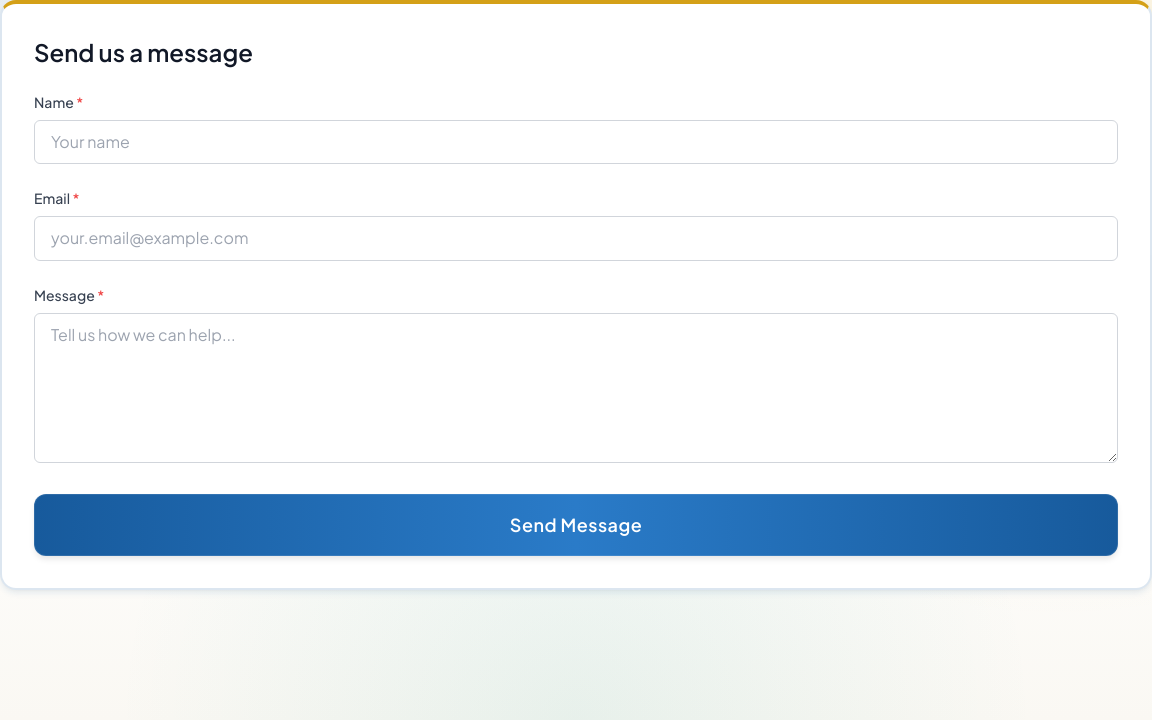
Scenario: ContactForm Component › Form Validation › should clear field error when user starts typing
This screenshot has width=1152, height=720.
Click the button "Send Message" at (576, 525), box [34,494,1118,556]
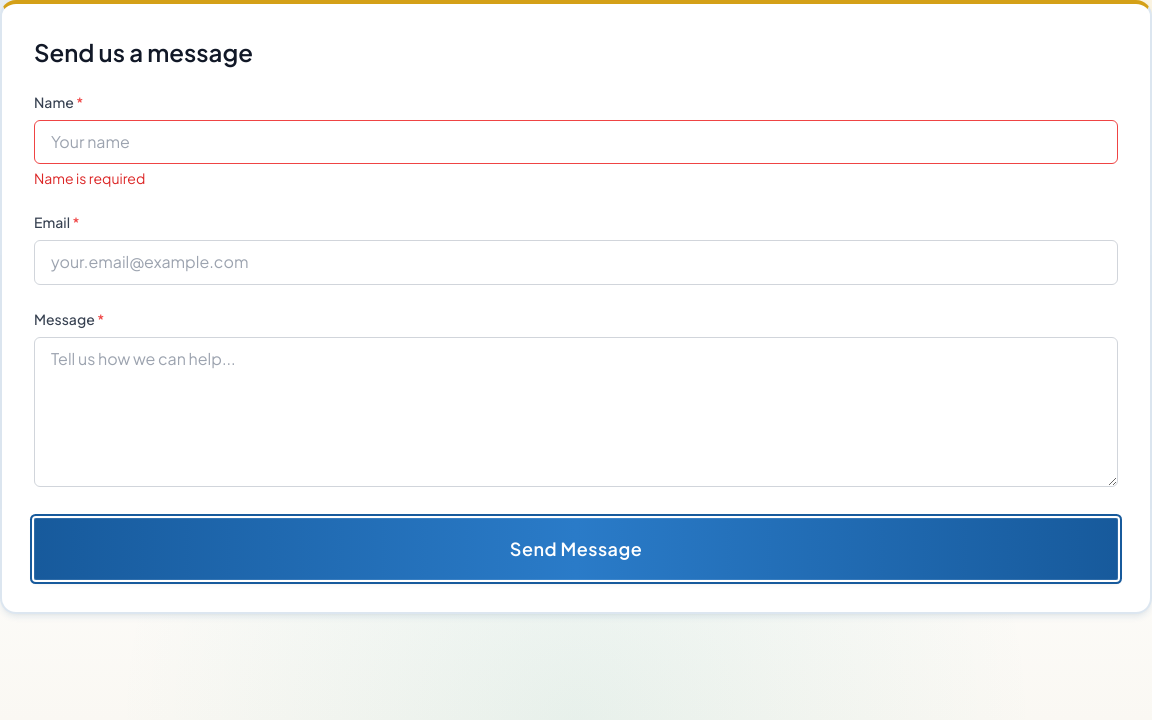
Expected: the text "Name is required" is shown, [34,169,145,187]
Type "J" into the field labelled "Name *" at (576, 142), box [34,120,1118,164]
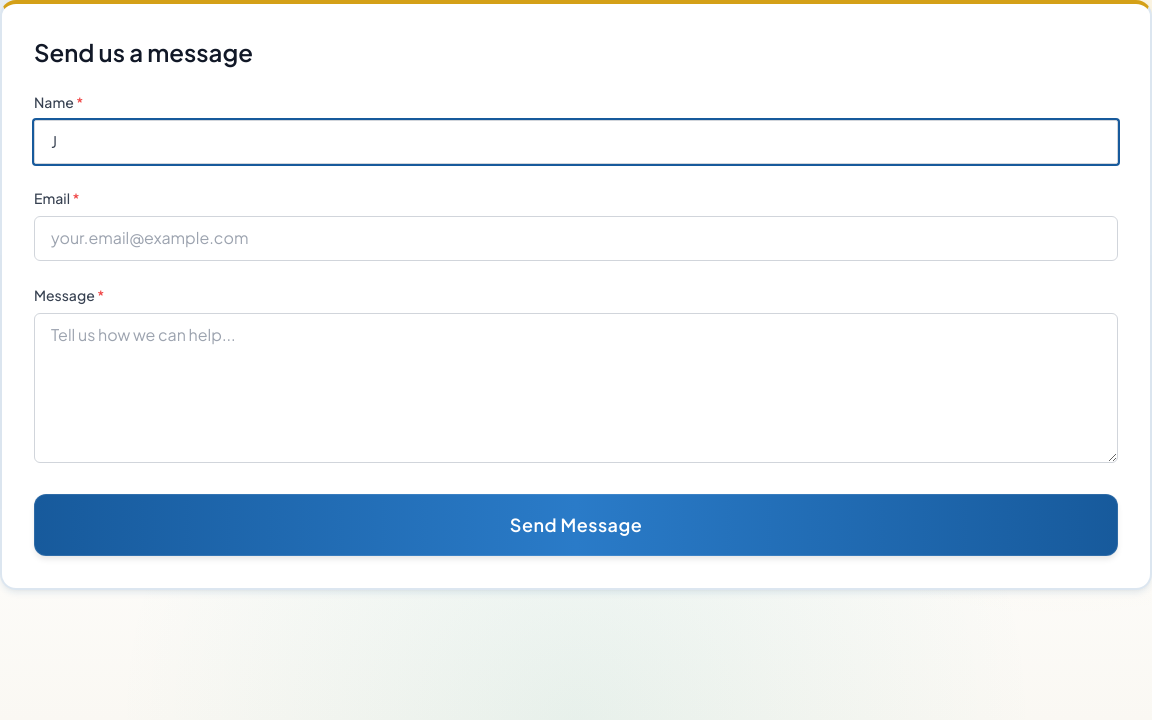
Expected: the text "Name is required" is gone
